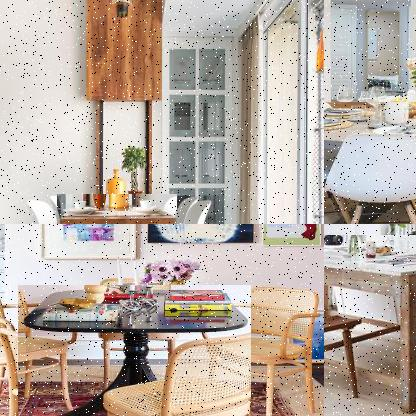table: (18, 285, 253, 415), (324, 234, 415, 415), (324, 102, 415, 223), (57, 194, 179, 223)
